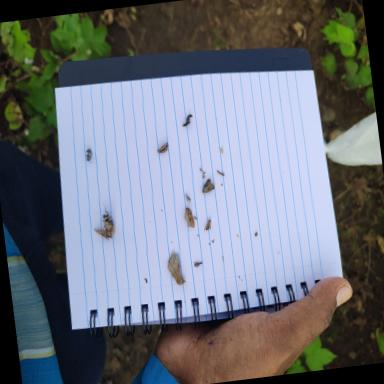pbw: (166, 249, 186, 286), (99, 200, 116, 240), (200, 177, 216, 194), (184, 206, 195, 230), (92, 226, 110, 240), (156, 142, 170, 153), (202, 218, 213, 230), (184, 192, 190, 204), (216, 168, 224, 176)
